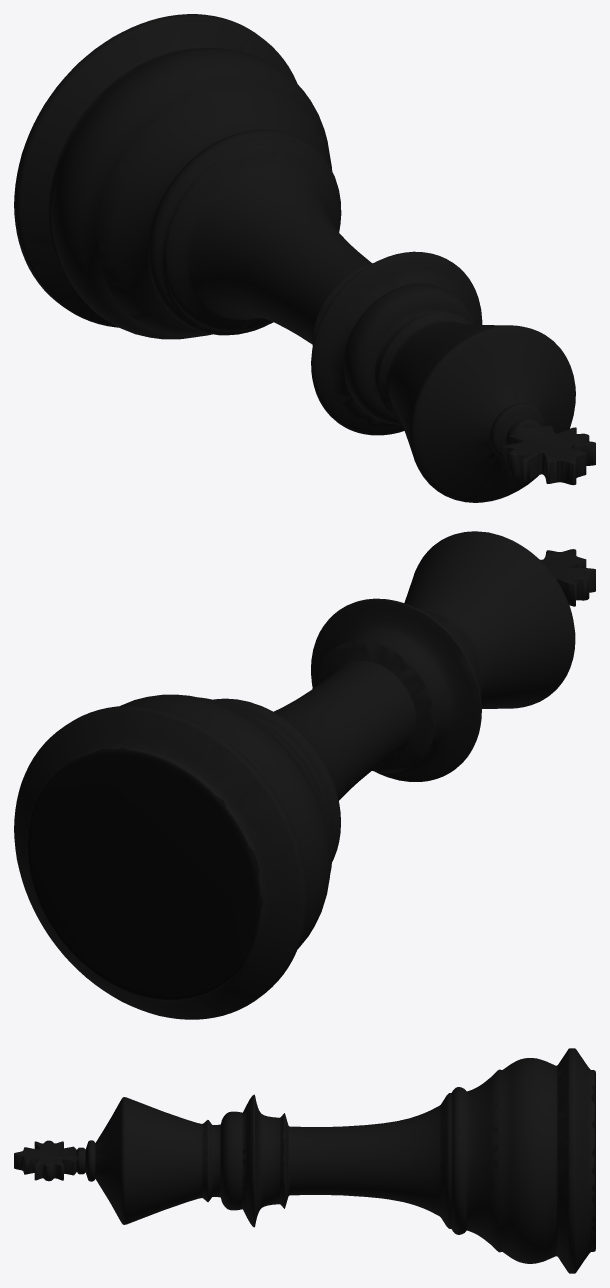
Rendered from blackKing.obj.
3 views of the same model, one above another, from view 1: azimuth 30°, elevation 25°; view 2: azimuth 150°, elevation 25°; view 3: azimuth 270°, elevation 25° (orthographic). The views are drawn at different scales.
Parts seen in each view (by area): view 1: 12926_Wooden_Chess_King_Side_A_v1_l3; view 2: 12926_Wooden_Chess_King_Side_A_v1_l3; view 3: 12926_Wooden_Chess_King_Side_A_v1_l3.
Part boxes in pixels (box(x1,y1,x2,y2)): 12926_Wooden_Chess_King_Side_A_v1_l3: box(14, 14, 595, 502); 12926_Wooden_Chess_King_Side_A_v1_l3: box(14, 531, 595, 1019); 12926_Wooden_Chess_King_Side_A_v1_l3: box(14, 1048, 595, 1273).
Size of the model in its own units: 0.9007 by 0.9007 by 2.32.
